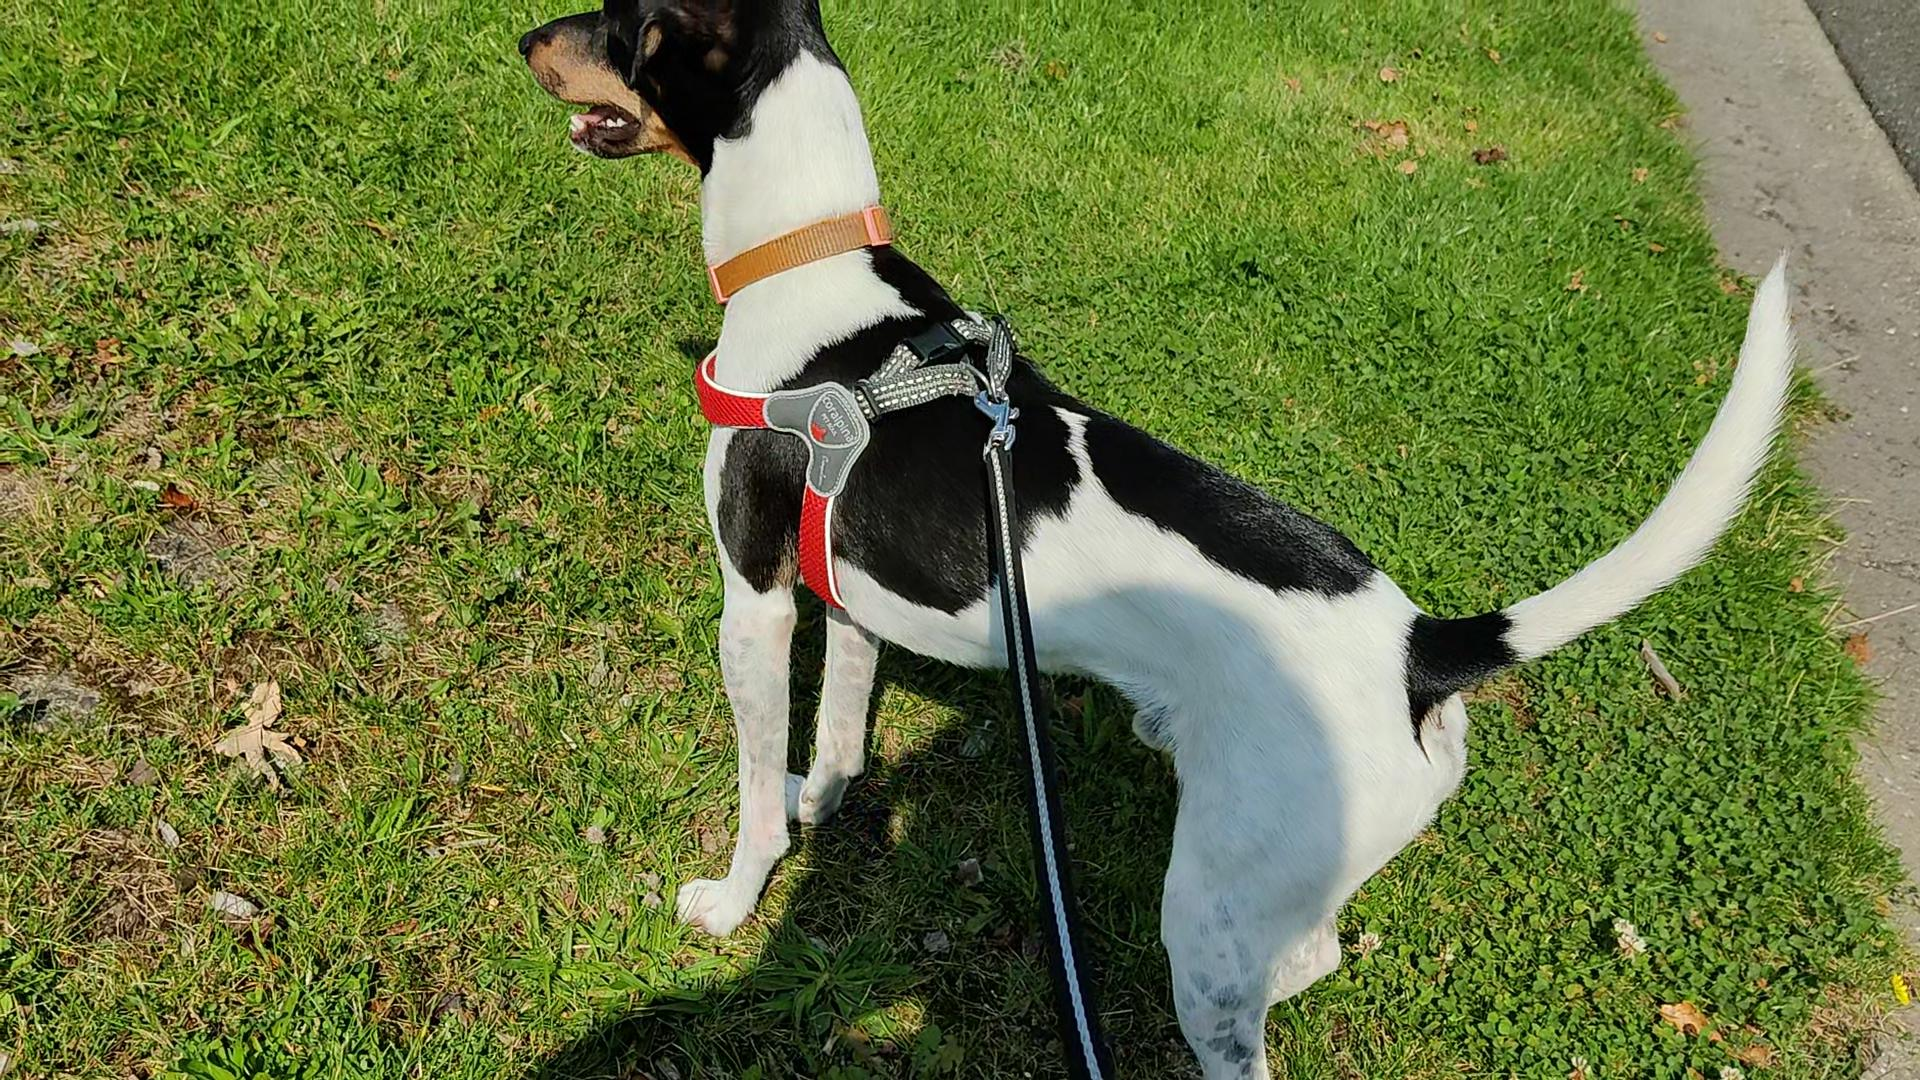Dog: (516, 0, 1796, 1080)
